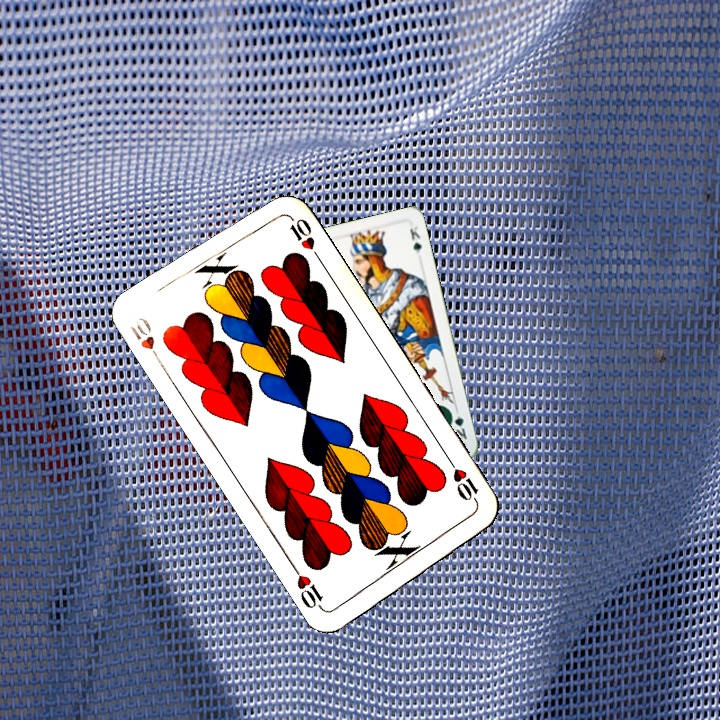GK: (446, 404, 470, 444)
H10: (127, 313, 165, 368), (444, 455, 482, 509)
